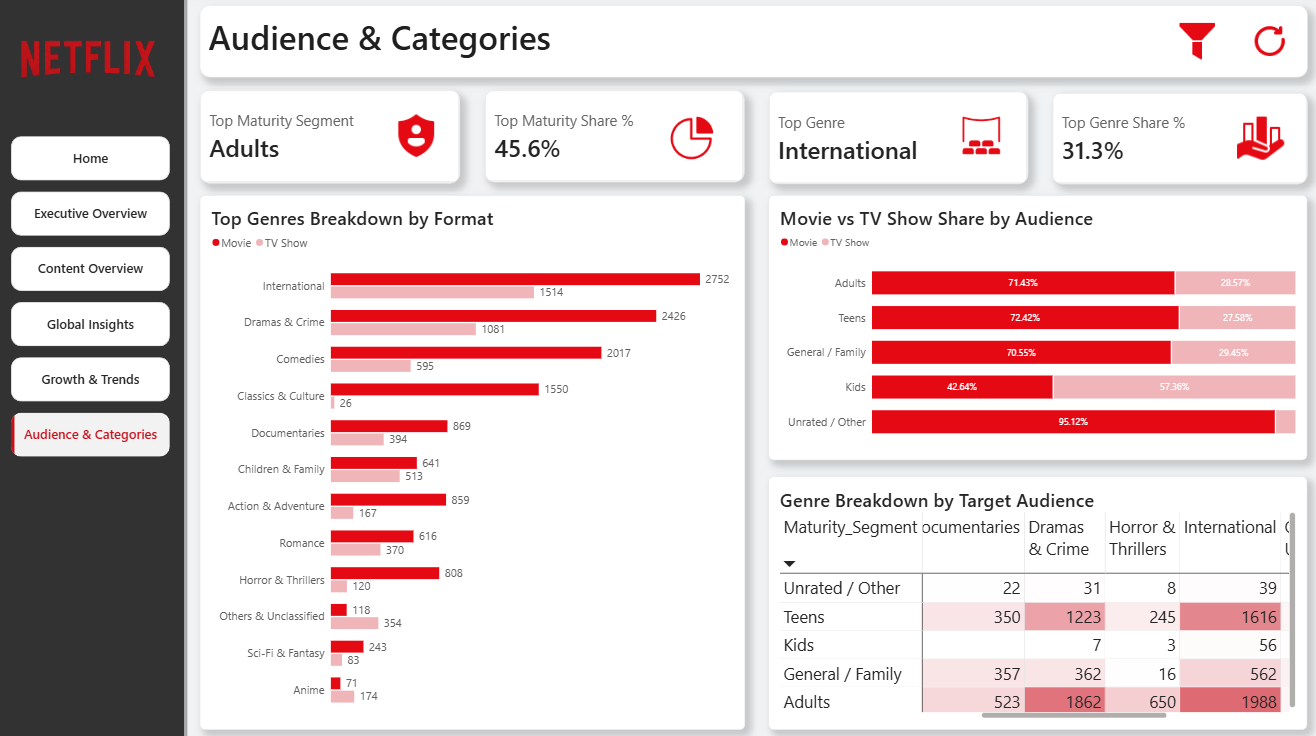

This screenshot's page, from the dashboard's own definition file:
{"tool":"powerbi","page":{"name":"Audience & Categories","canvas":[1920,1080],"ordinal":5},"visuals":[{"type":"shape","box":[0,0,277.3,1079.6],"z":0},{"type":"image","box":[1798.8,38,90.5,57.9],"z":0,"group":"g5"},{"type":"cardVisual","fields":{"Data":["_Measures.Top Maturity Segment"]},"box":[295.2,137.1,376.6,134.8],"z":0,"group":"g1"},{"type":"cardVisual","fields":{"Data":["_Measures.Top Maturity Share %"]},"box":[707.2,137.1,375.9,133.9],"z":0,"group":"g2"},{"type":"cardVisual","fields":{"Data":["_Measures.Top Genre"]},"box":[1118.5,139.5,375.6,134.1],"z":0,"group":"g3"},{"type":"cardVisual","fields":{"Data":["_Measures.Top Genre Share %"]},"box":[1529.5,141.8,369.6,132.5],"z":0,"group":"g4"},{"type":"image","box":[36.6,0,194.1,185.7],"z":1000},{"type":"image","box":[1693.8,38,90.5,57.9],"z":1000,"group":"g5"},{"type":"image","box":[569.6,169.5,76.9,65.4],"z":1000,"group":"g1"},{"type":"image","box":[1774.7,170.2,111.6,74.4],"z":1000,"group":"g4"},{"type":"image","box":[960.9,171.6,90.7,72.1],"z":1000,"group":"g2"},{"type":"image","box":[1383.8,175.9,83.6,55],"z":1000,"group":"g3"},{"type":"pageNavigator","box":[21.2,205.3,230.7,469.9],"z":2000},{"type":"textbox","box":[295.2,13.9,1603.9,104.6],"z":3000},{"type":"group","id":"g1","title":"Group 2","box":[295.2,137.1,376.6,134.8],"z":4000},{"type":"group","id":"g2","title":"Group 3","box":[707.2,137.1,375.9,133.9],"z":5000},{"type":"group","id":"g3","title":"Group 4","box":[1118.5,139.5,375.6,134.1],"z":6000},{"type":"group","id":"g4","title":"Group 5","box":[1529.5,141.8,369.6,132.5],"z":7000},{"type":"clusteredBarChart","title":"Top Genres Breakdown by Format","fields":{"Category":["ShowGenre.Clean_Genre"],"Series":["Shows.type"],"Y":["_Measures.Total Titles"]},"box":[294.7,290.3,789.6,774.2],"z":8000},{"type":"pivotTable","title":"Genre Breakdown by Target Audience","fields":{"Columns":["ShowGenre.Clean_Genre"],"Rows":["Shows.Maturity_Segment"],"Values":["_Measures.Total Titles"]},"box":[1118.4,696.7,780.1,367.4],"z":9000},{"type":"hundredPercentStackedBarChart","title":"Movie vs TV Show Share by Audience","fields":{"Category":["Shows.Maturity_Segment"],"Series":["Shows.type"],"Y":["_Measures.Total Titles"]},"box":[1119.2,290.2,780.1,384.4],"z":10000},{"type":"group","id":"g5","title":"Filter Controls","box":[1693.8,38,195.4,57.9],"z":12000}]}

Visuals, with their boxes on the page's 1920x1080 design canvas (x1, y1, x2, y2). These are canvas units, not pixel positions in the 1316x736 screenshot, which may show the page scaled, cropped or inside an application window:
shape: x1=0, y1=0, x2=277, y2=1080
image: x1=1799, y1=38, x2=1889, y2=96
cardVisual - _Measures.Top Maturity Segment: x1=295, y1=137, x2=672, y2=272
cardVisual - _Measures.Top Maturity Share %: x1=707, y1=137, x2=1083, y2=271
cardVisual - _Measures.Top Genre: x1=1118, y1=140, x2=1494, y2=274
cardVisual - _Measures.Top Genre Share %: x1=1530, y1=142, x2=1899, y2=274
image: x1=37, y1=0, x2=231, y2=186
image: x1=1694, y1=38, x2=1784, y2=96
image: x1=570, y1=170, x2=646, y2=235
image: x1=1775, y1=170, x2=1886, y2=245
image: x1=961, y1=172, x2=1052, y2=244
image: x1=1384, y1=176, x2=1467, y2=231
pageNavigator: x1=21, y1=205, x2=252, y2=675
textbox: x1=295, y1=14, x2=1899, y2=118
"Group 2" group: x1=295, y1=137, x2=672, y2=272
"Group 3" group: x1=707, y1=137, x2=1083, y2=271
"Group 4" group: x1=1118, y1=140, x2=1494, y2=274
"Group 5" group: x1=1530, y1=142, x2=1899, y2=274
"Top Genres Breakdown by Format" clusteredBarChart: x1=295, y1=290, x2=1084, y2=1064
"Genre Breakdown by Target Audience" pivotTable: x1=1118, y1=697, x2=1898, y2=1064
"Movie vs TV Show Share by Audience" hundredPercentStackedBarChart: x1=1119, y1=290, x2=1899, y2=675
"Filter Controls" group: x1=1694, y1=38, x2=1889, y2=96
